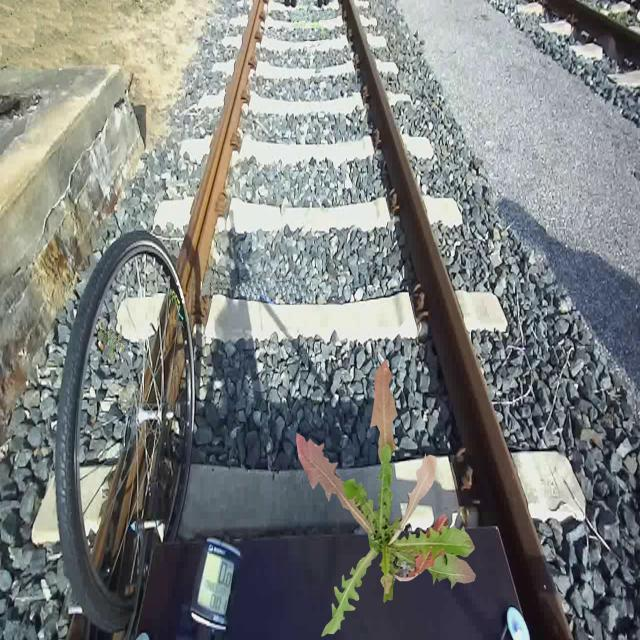Plant: (296, 359, 476, 637), (98, 323, 126, 364)
